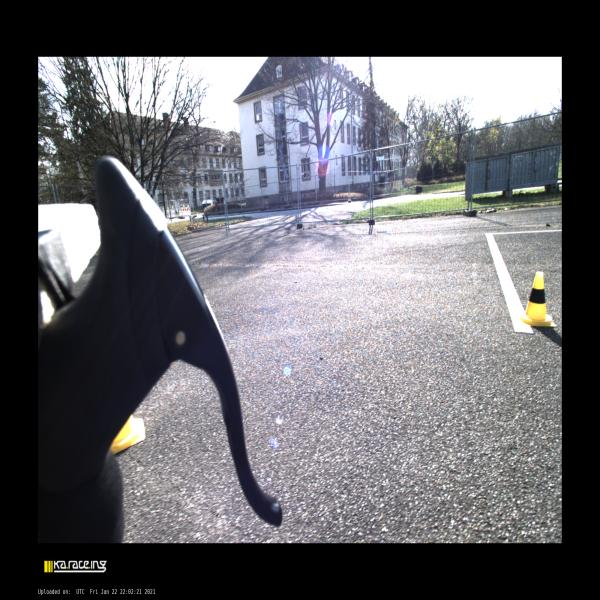yellow_cone: (520, 272, 556, 326)
